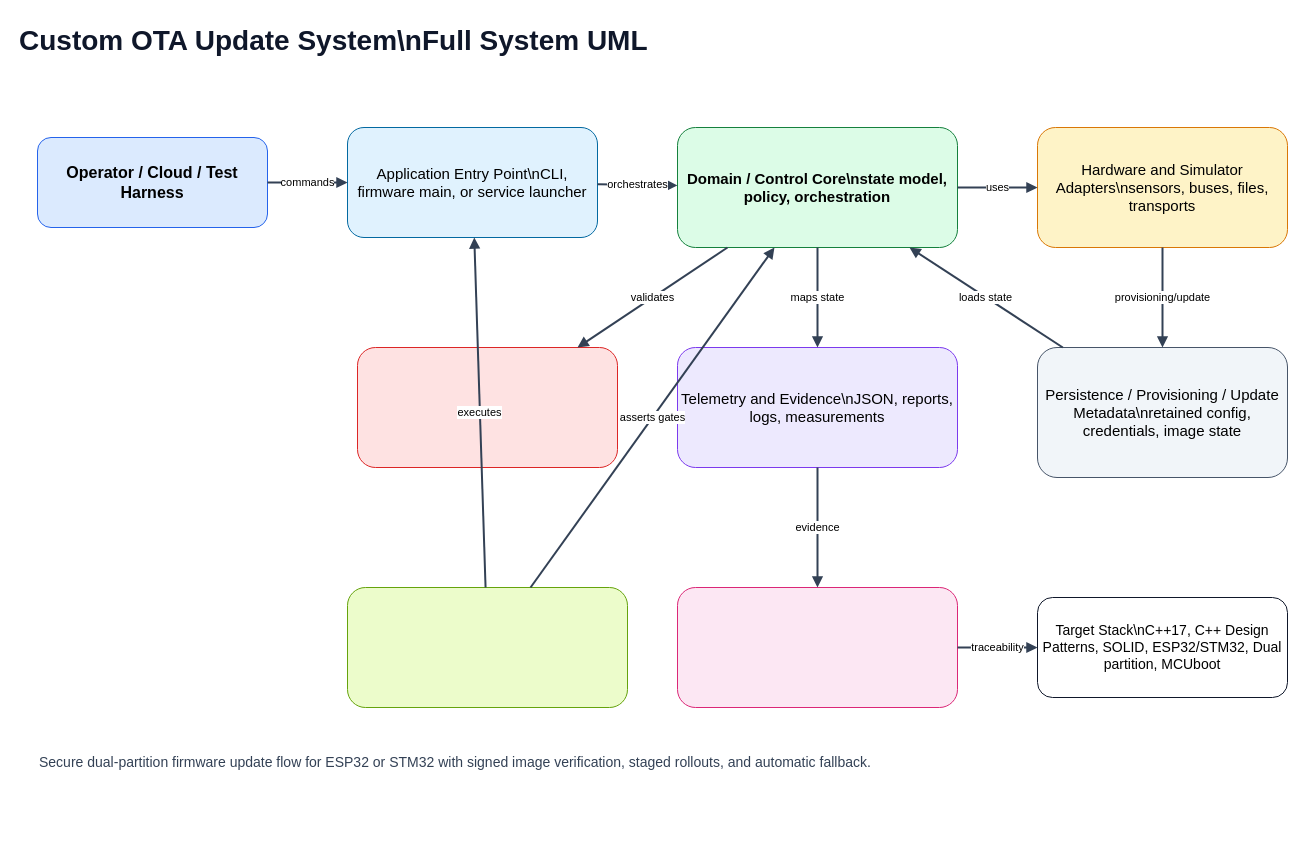
Image size: 1305x844. Some labels were removed from this diagram. Each missing label, with the centre of its shape:
"Documentation Package\nREADME, architecture, validation plan, UML" goes at pixel 817 647.
"Safety / Readiness Gates\nconfig, battery, timing, OTA, bounds" goes at pixel 487 407.
"Tests and CI\nCMake, CTest, smoke runs, expected failures" goes at pixel 487 647.
